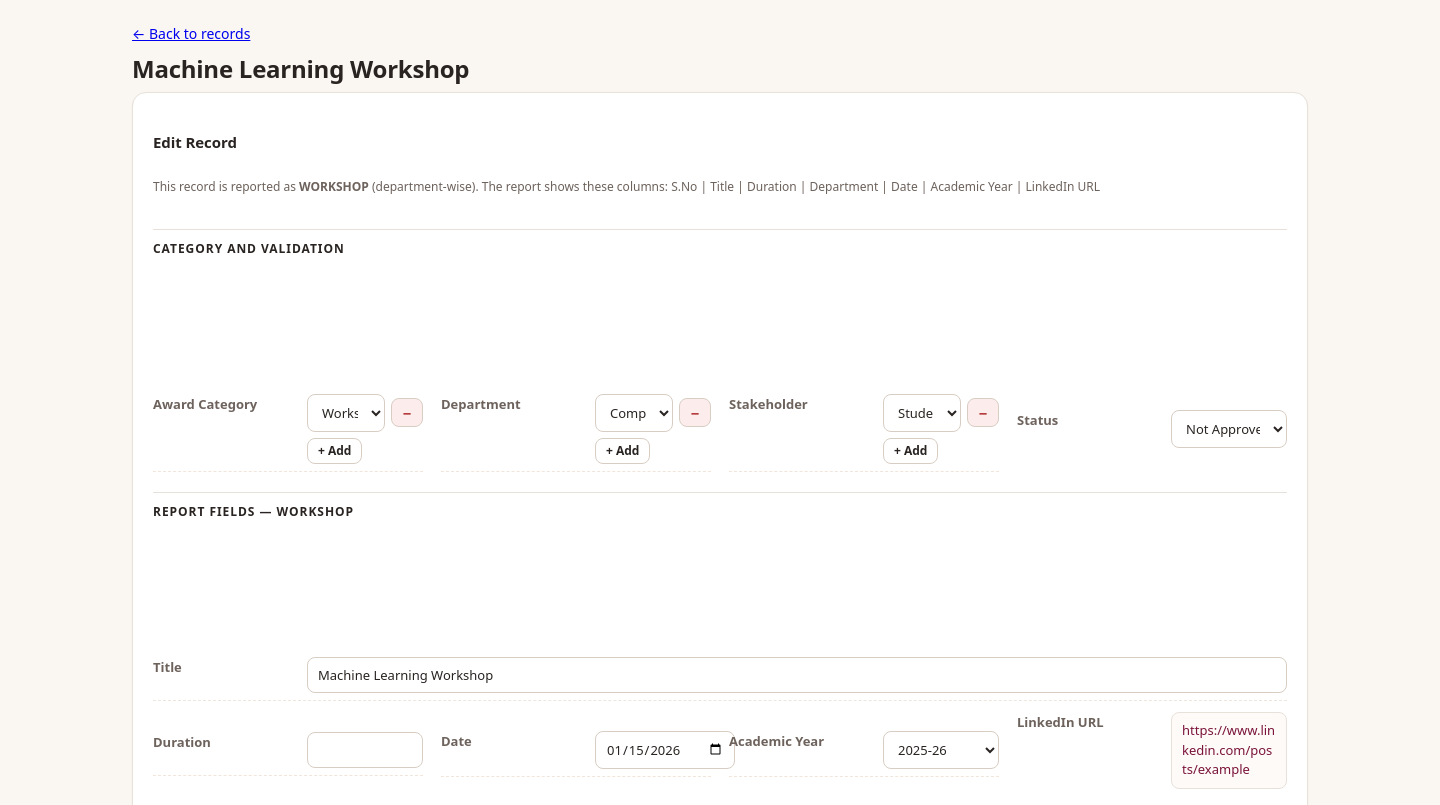
LinkedIn Admin Record Detail › surfaces server error messages
The image size is (1440, 805).
Select "Not Real" in the dropdown labelled "Department": x=634, y=413 [595,394,673,432]
(page scrolled)
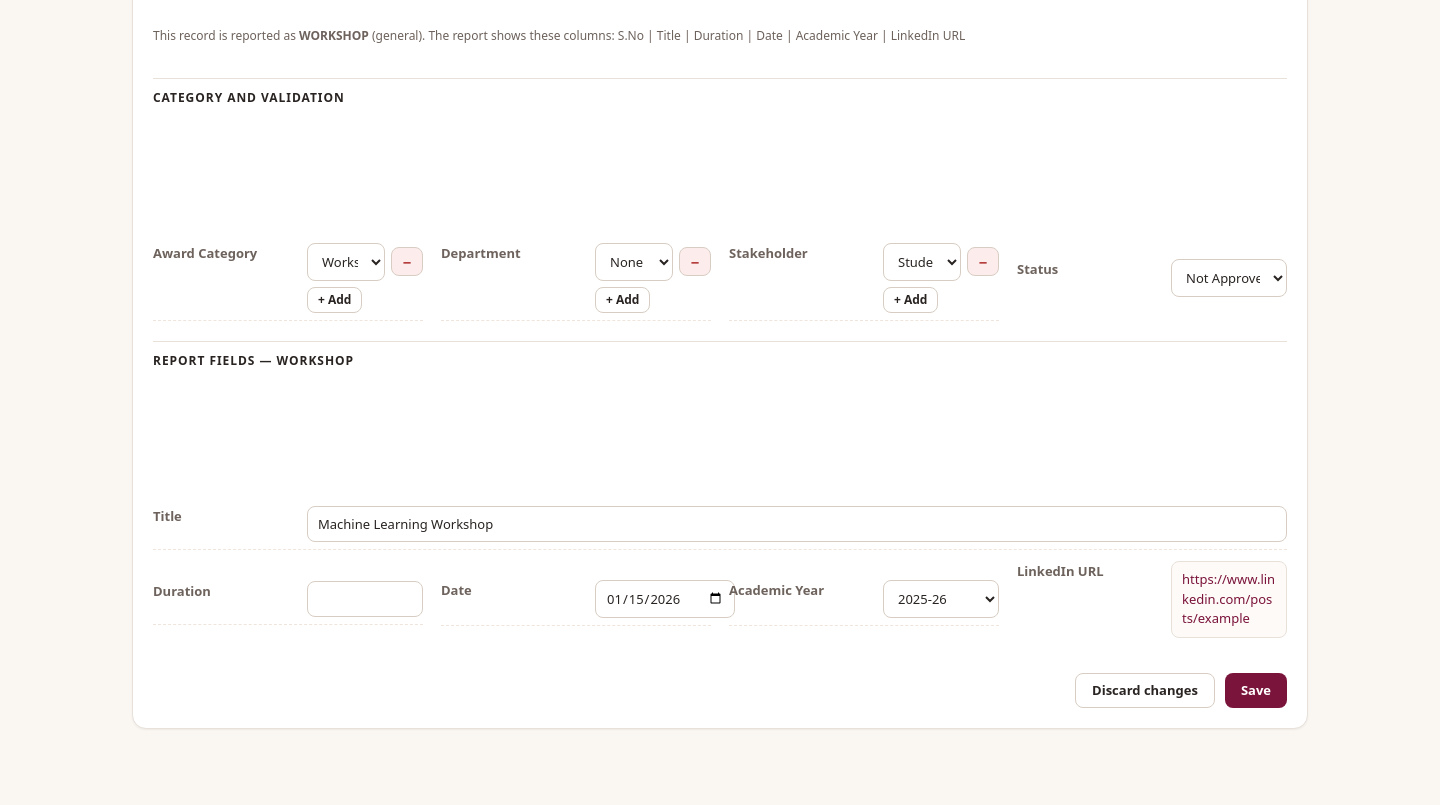
Click the button "Save": x=1256, y=690 [1225,673,1287,708]
(page scrolled)
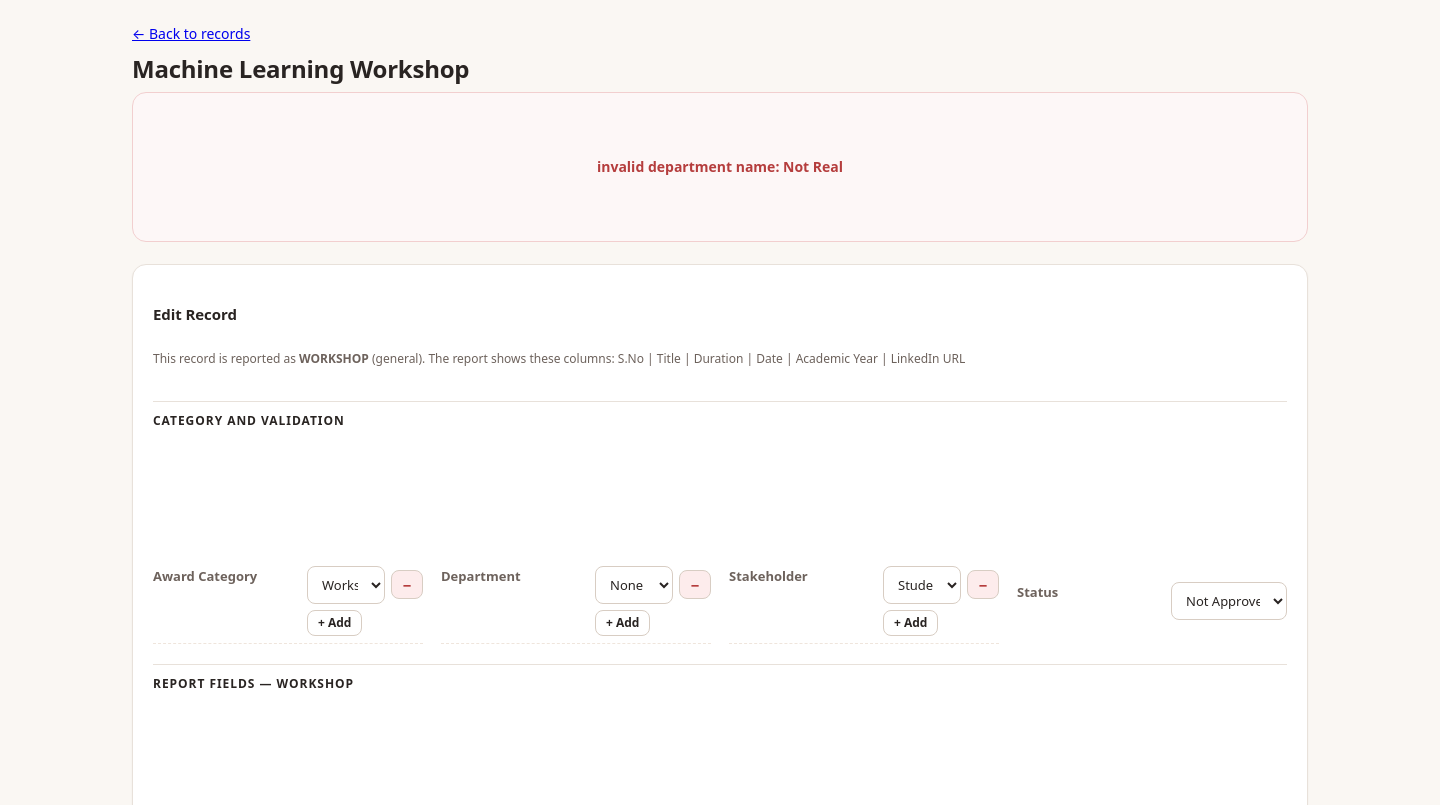
Check: the text "invalid department name: Not Real" is shown, box [132,92,1308,242]
